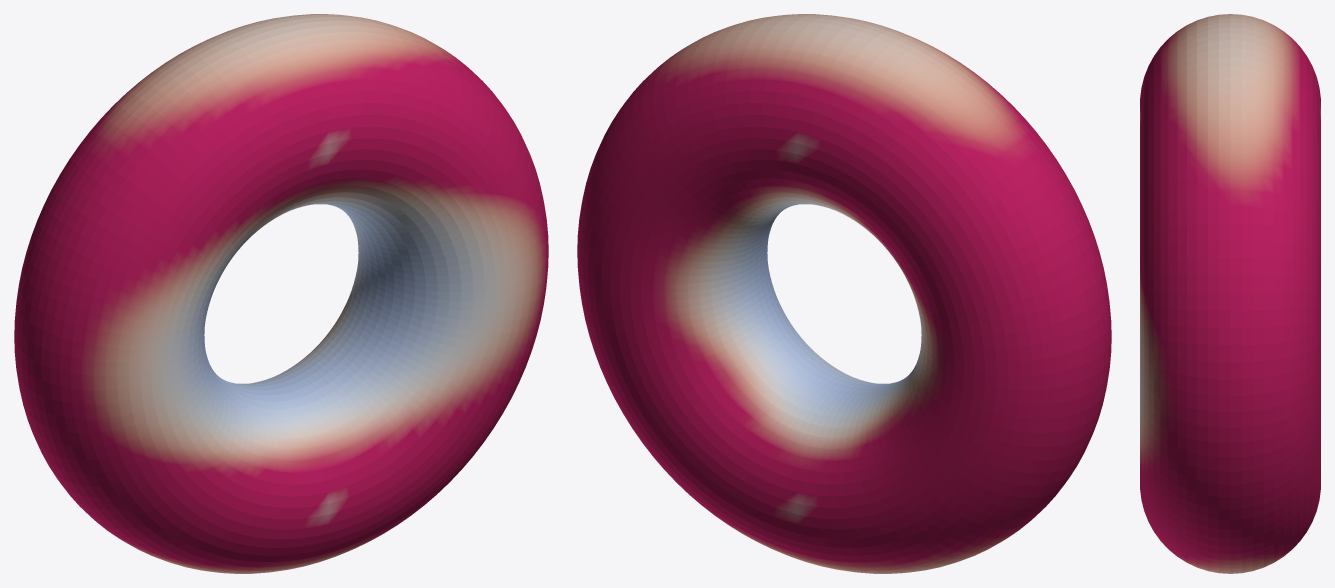
3 views of the same model, side by side, from view 1: azimuth 30°, elevation 25°; view 2: azimuth 150°, elevation 25°; view 3: azimuth 270°, elevation 25° (orthographic). The views are drawn at different scales.
Visible parts, largest first — view 1: world; view 2: world; view 3: world.
Boxes of the visible parts, <box> form: world: <box>14,14,548,573</box>; world: <box>577,14,1111,573</box>; world: <box>1140,14,1320,573</box>.
Bounding box in the file's own units: 27.6 × 27.6 × 8.92.
